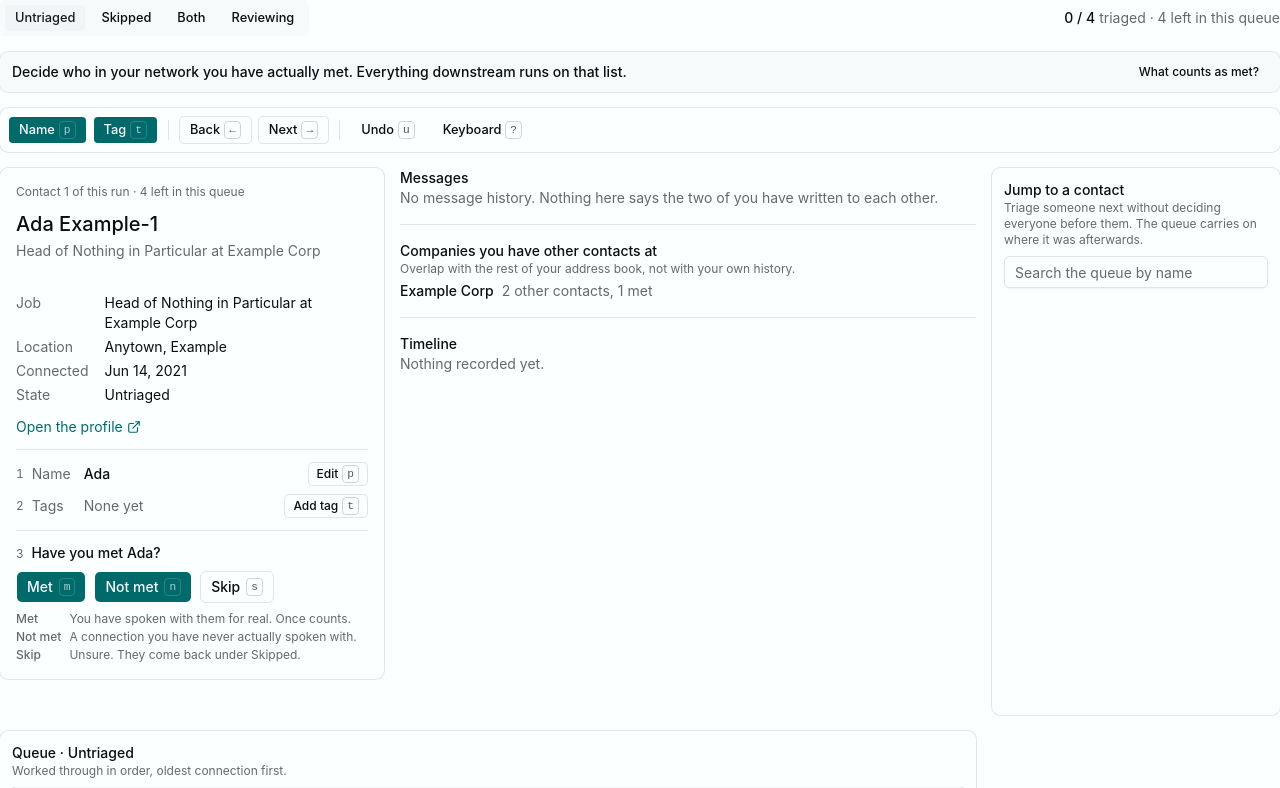
Scenario: undo › forces the undo only when the person asks for it
The image size is (1280, 788).
Press m
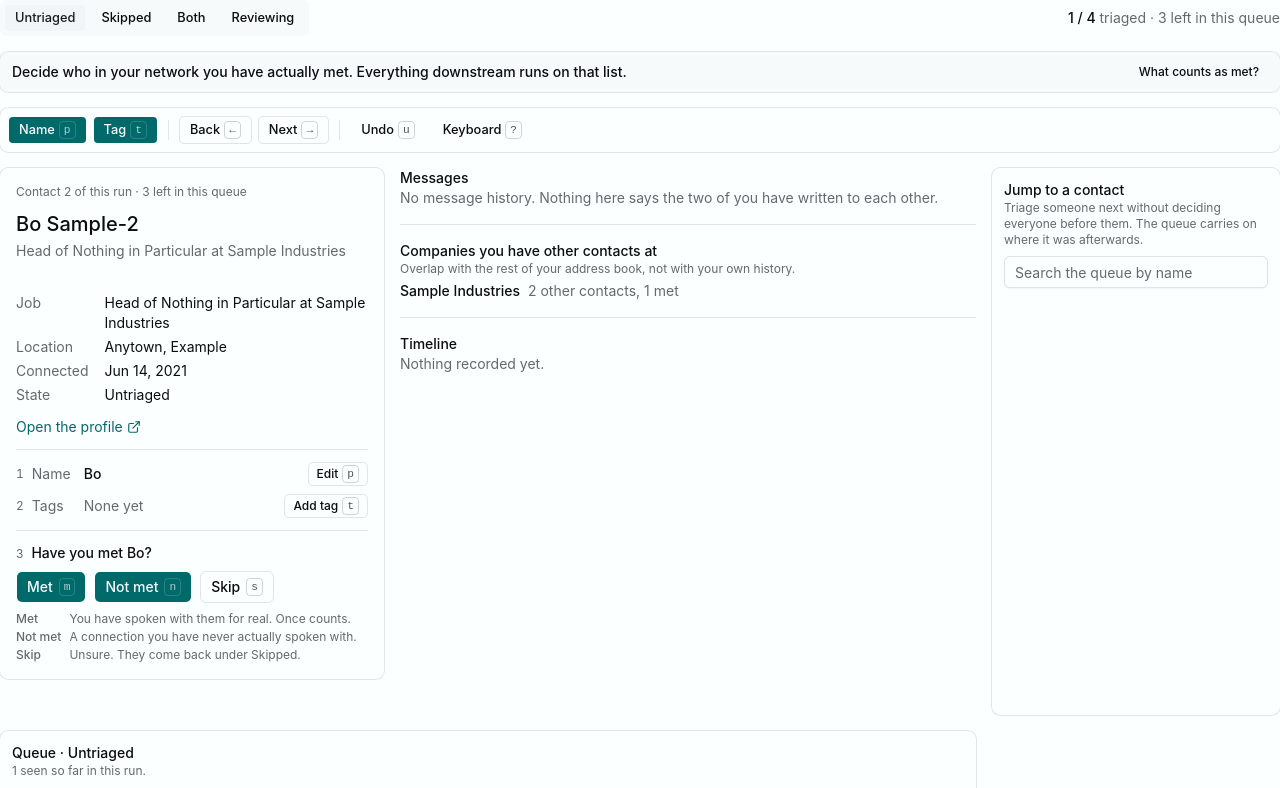
Press u
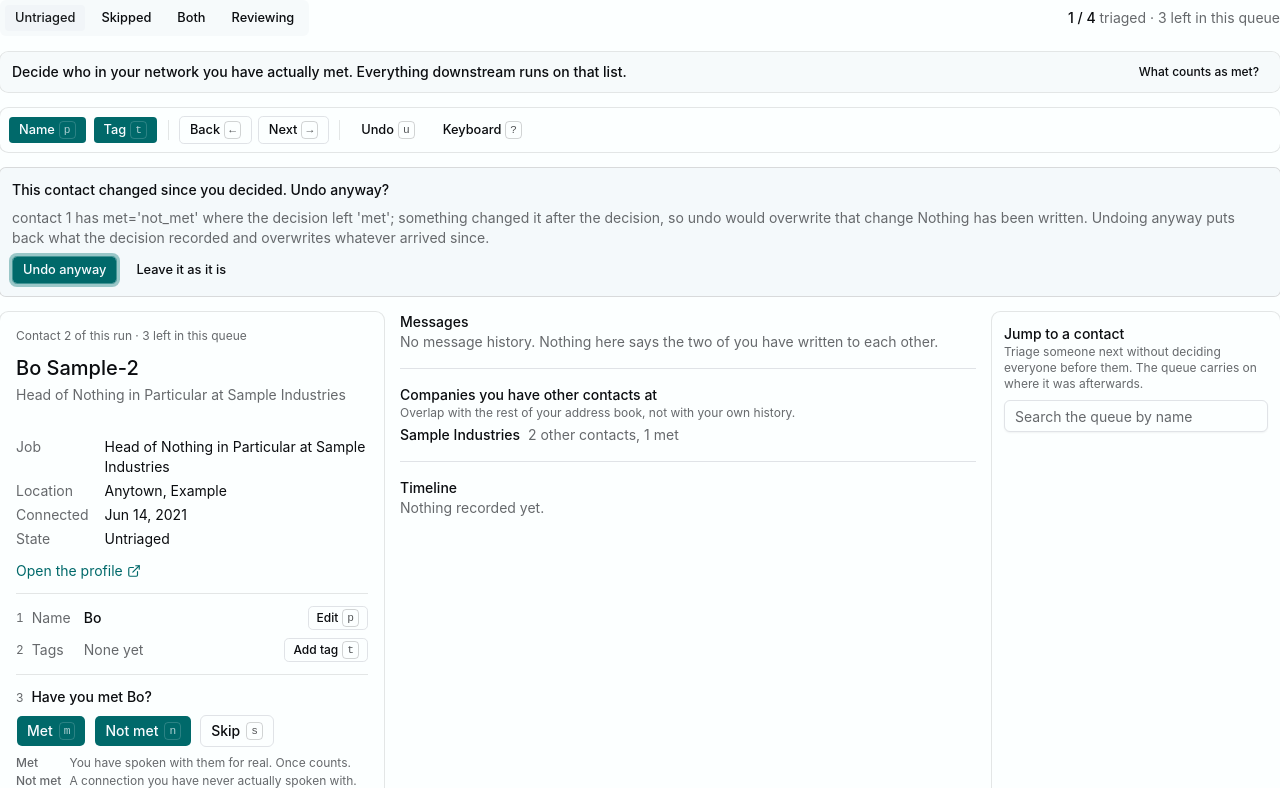
Click the button with test id "undo-force" at [65, 270], box [12, 256, 117, 284]
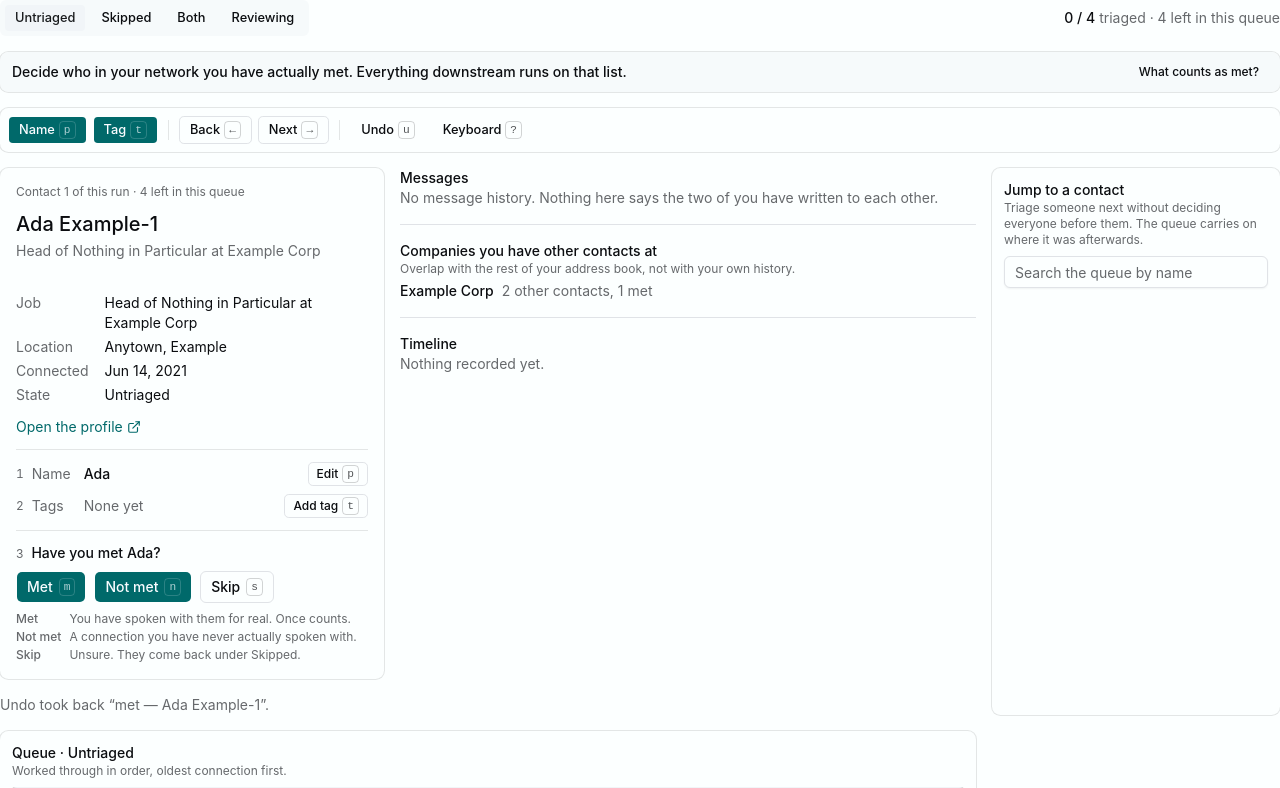
Check: the dialog is gone
